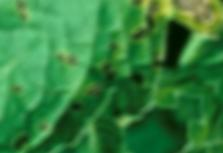Tomato Early blight leaf: (0, 0, 221, 153)
